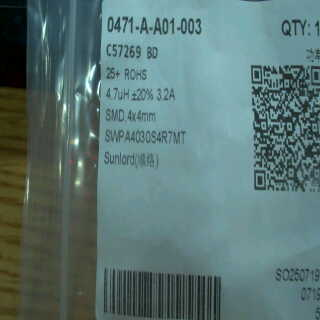4.7uH: (99, 85, 131, 104)
